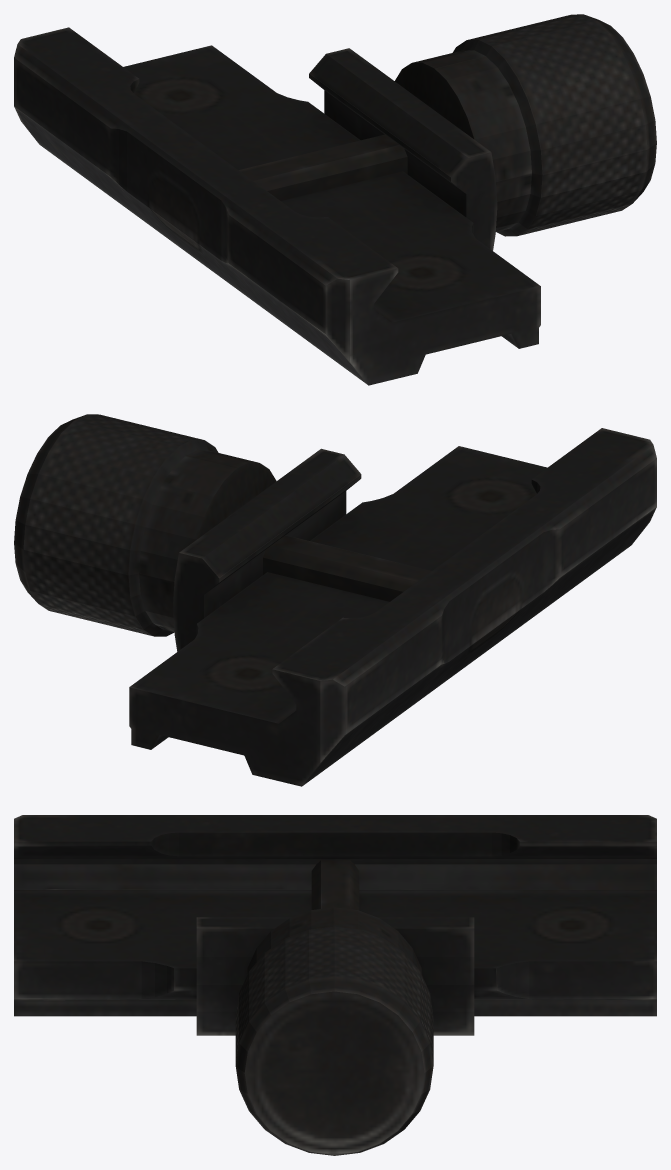
The picture shows the model from 3 angles, top to bottom: view 1: azimuth 30°, elevation 25°; view 2: azimuth 150°, elevation 25°; view 3: azimuth 270°, elevation 25°; orthographic projection. The views are drawn at different scales.
Parts seen in each view (by area): view 1: TW_616584766ef05c2ce828ef57_PZ_Import; view 2: TW_616584766ef05c2ce828ef57_PZ_Import; view 3: TW_616584766ef05c2ce828ef57_PZ_Import.
Boxes of the visible parts, box(x1,y1,x2,y2) form: TW_616584766ef05c2ce828ef57_PZ_Import: box(14, 14, 656, 385); TW_616584766ef05c2ce828ef57_PZ_Import: box(14, 414, 656, 786); TW_616584766ef05c2ce828ef57_PZ_Import: box(14, 815, 656, 1155).
Size of the model in its own units: 0.0313 by 0.0405 by 0.0124.
Materials: 1 (1 with a texture image).
